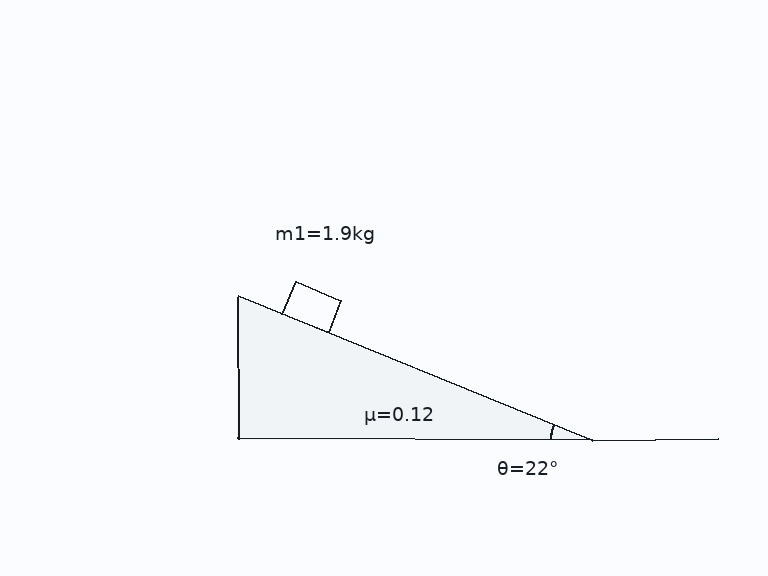block: (280, 279, 343, 334)
ramp: (236, 294, 593, 441)
